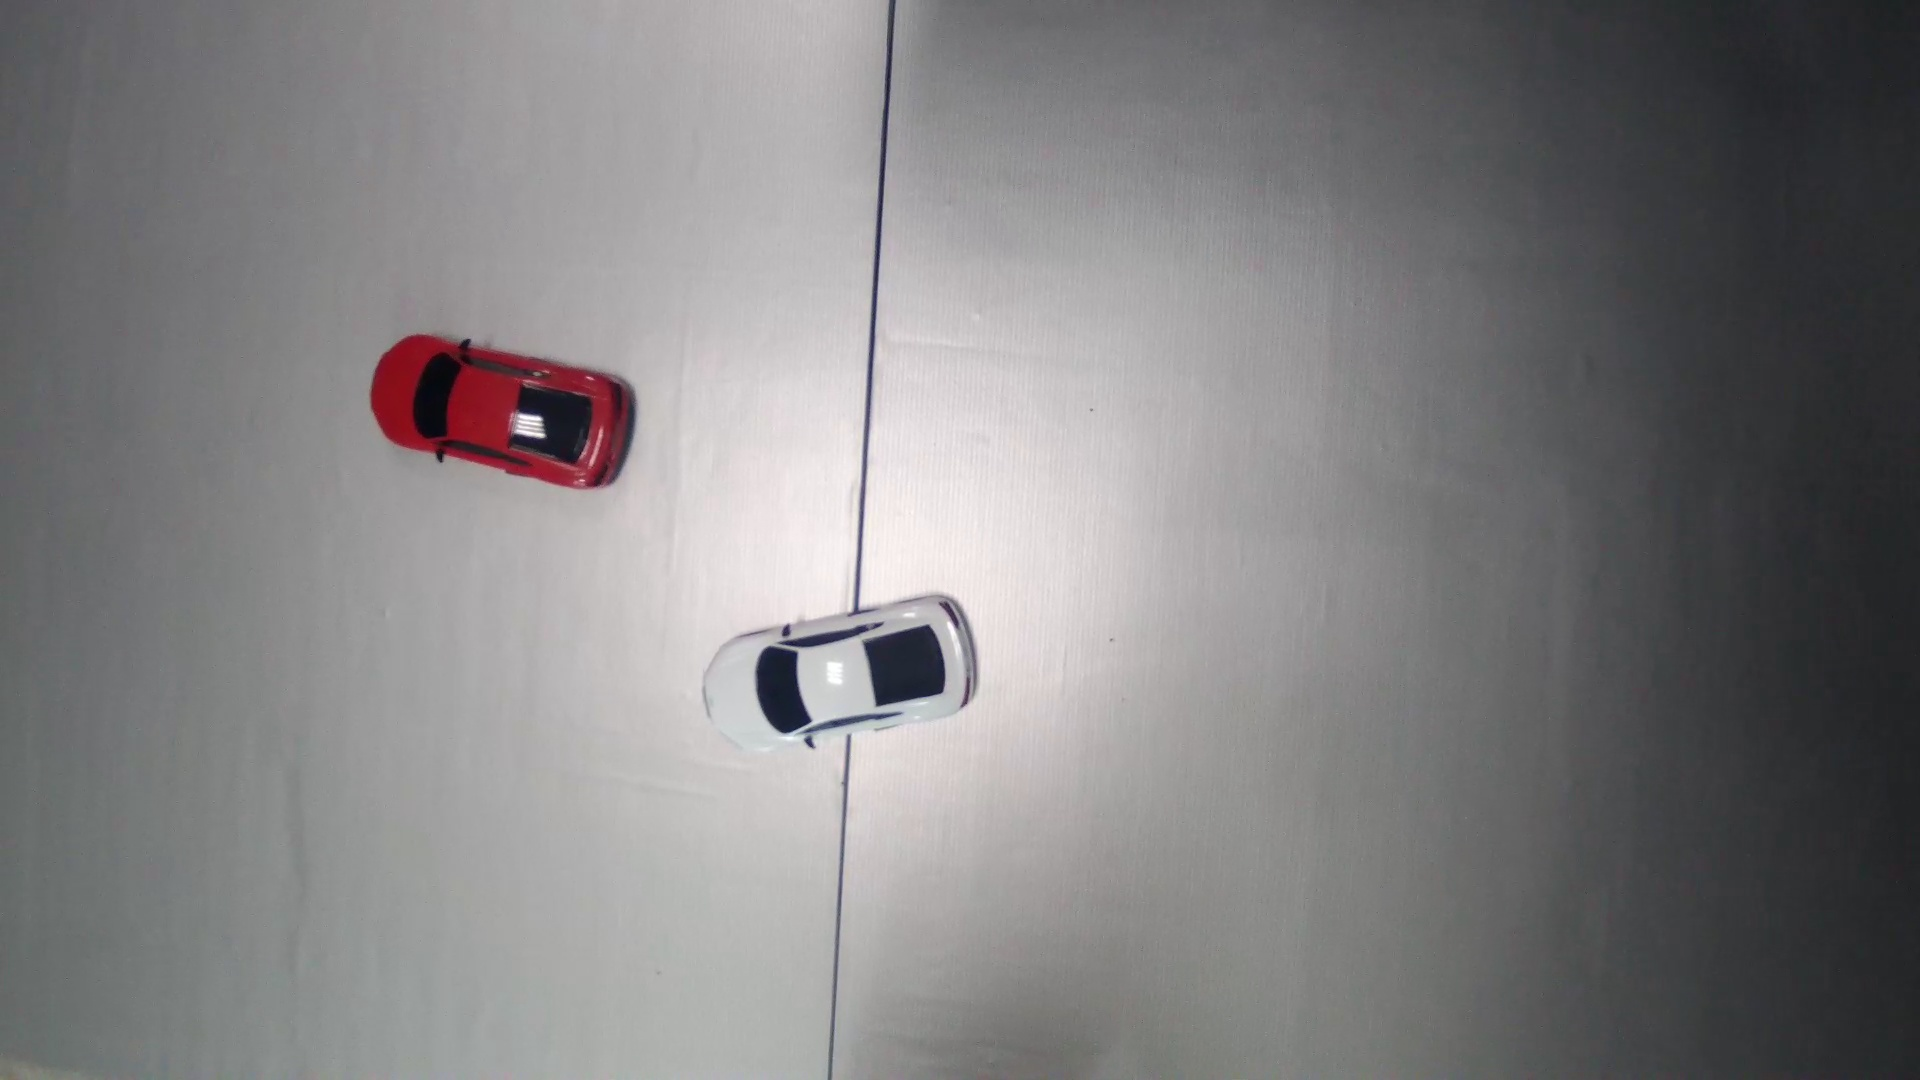remote_car: (704, 587, 982, 750), (369, 334, 634, 492)
